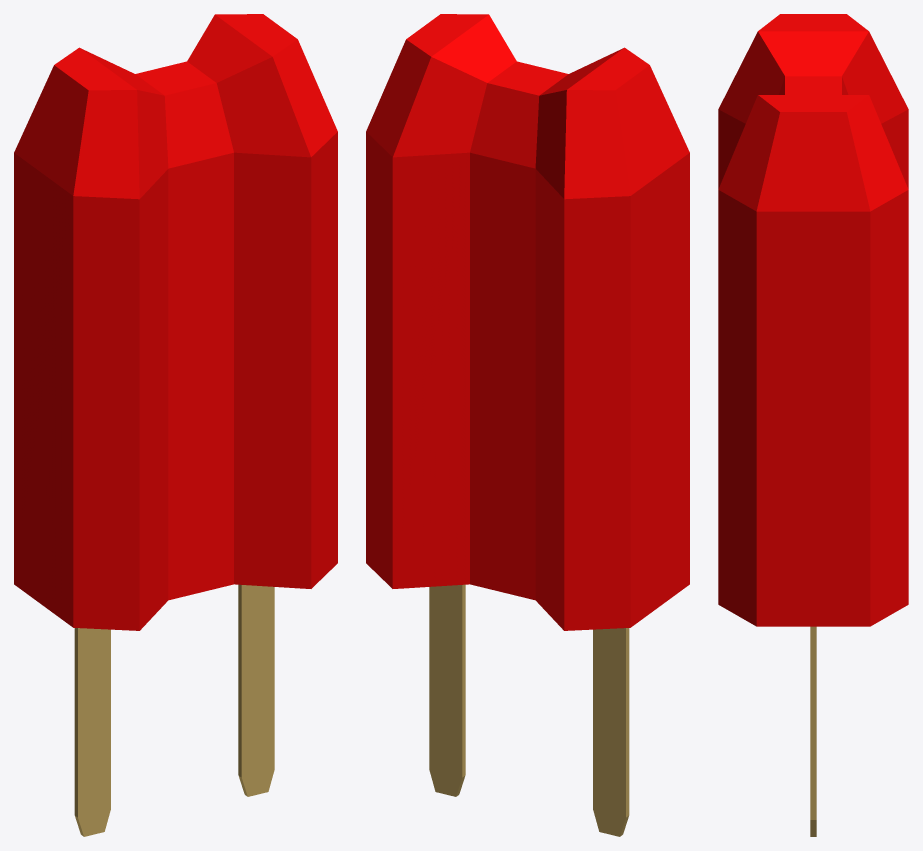
File: Cherry Popsicle.fbx
3 renders of one model, left to right at view 1: azimuth 30°, elevation 25°; view 2: azimuth 150°, elevation 25°; view 3: azimuth 270°, elevation 25°, orthographic. The views are drawn at different scales.
Parts seen in each view (by area): view 1: Cherry Popsicle; view 2: Cherry Popsicle; view 3: Cherry Popsicle.
Boxes of the visible parts, x1=… form: Cherry Popsicle: x1=14, y1=14, x2=337, y2=836; Cherry Popsicle: x1=366, y1=14, x2=689, y2=836; Cherry Popsicle: x1=718, y1=14, x2=908, y2=836.
Bounding box in the file's own units: 4.11 × 11.3 × 2.67.
